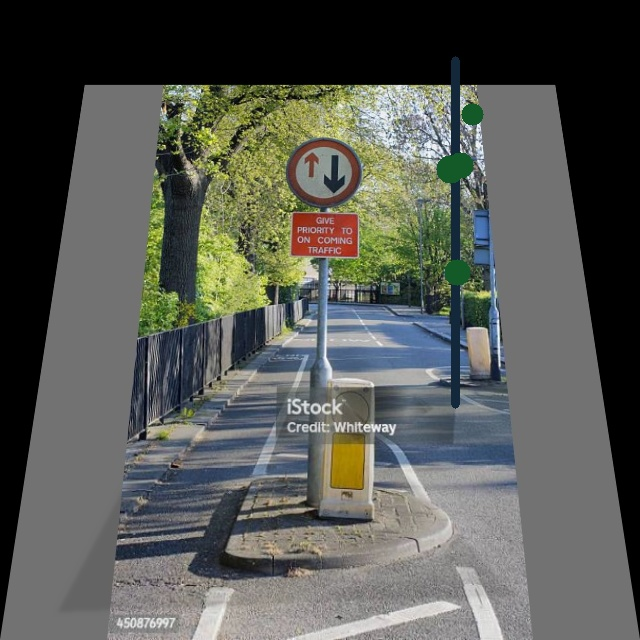Priority_for_Oncoming_Traffic: (288, 139, 362, 207)
